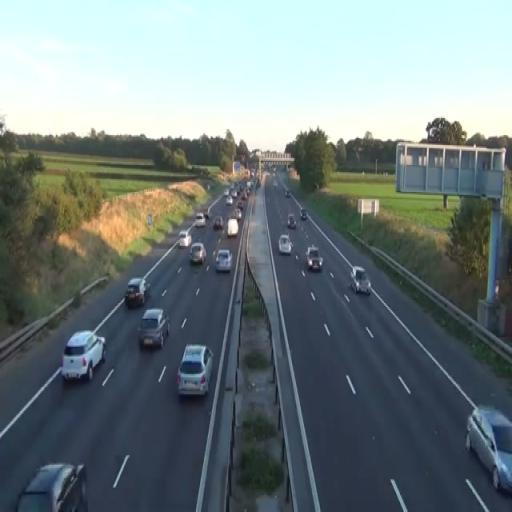Car: (465, 404, 512, 495), (16, 462, 89, 512), (61, 330, 105, 384), (176, 344, 213, 398), (138, 307, 171, 350), (125, 277, 151, 308), (350, 265, 371, 295), (306, 246, 324, 272), (215, 249, 232, 273), (189, 242, 206, 266), (278, 234, 292, 255), (178, 230, 192, 250), (228, 219, 238, 238)
